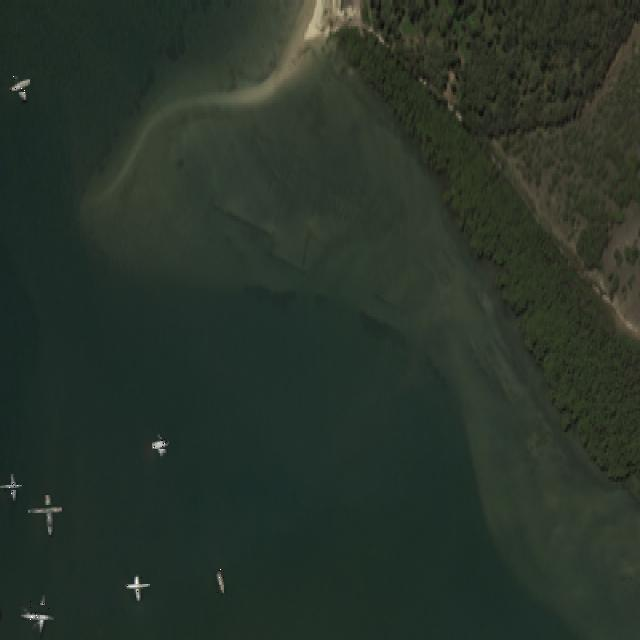boat: (25, 600, 50, 625), (35, 498, 59, 521), (10, 76, 28, 95), (127, 577, 145, 595), (214, 569, 224, 595), (4, 480, 18, 494), (153, 437, 167, 451), (9, 472, 13, 476), (156, 430, 159, 434), (40, 593, 45, 595)
